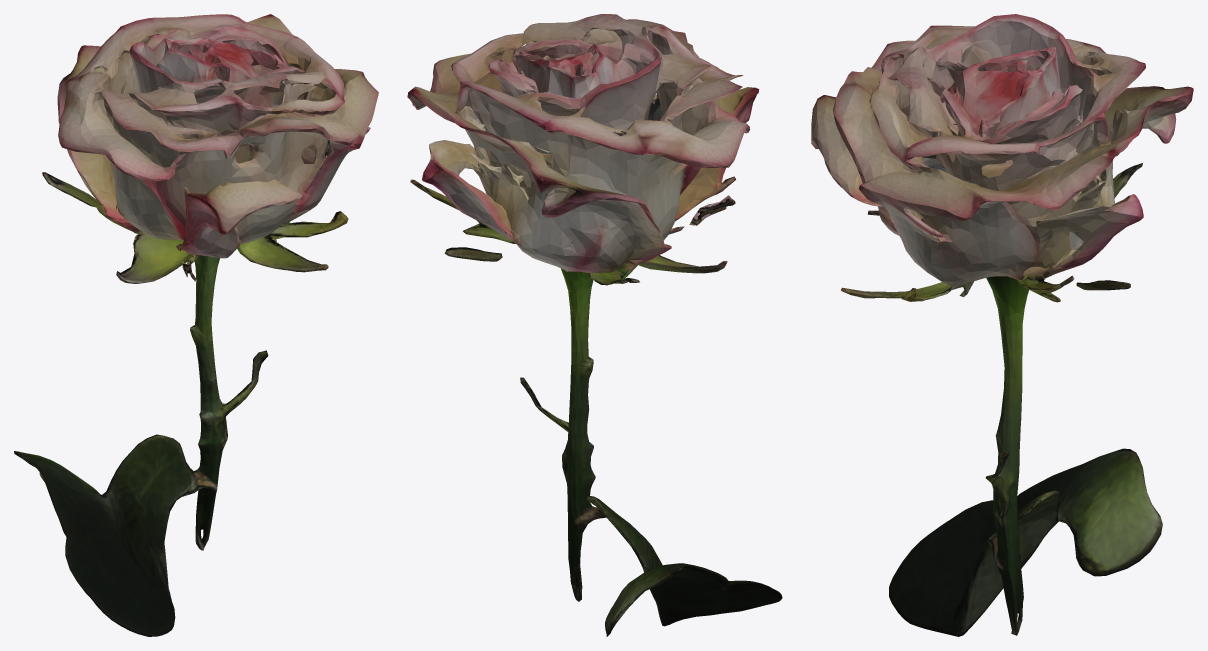
3 renders of one model, left to right at view 1: azimuth 30°, elevation 25°; view 2: azimuth 150°, elevation 25°; view 3: azimuth 270°, elevation 25°, orthographic. The views are drawn at different scales.
Parts seen in each view (by area): view 1: world; view 2: world; view 3: world.
Boxes of the visible parts, bbox=[...] form: world: bbox=[14, 14, 378, 636]; world: bbox=[407, 14, 782, 636]; world: bbox=[811, 14, 1193, 636].
Bounding box in the file's own units: 0.5759 × 0.9696 × 0.5447.
1 material, 1 textured.
